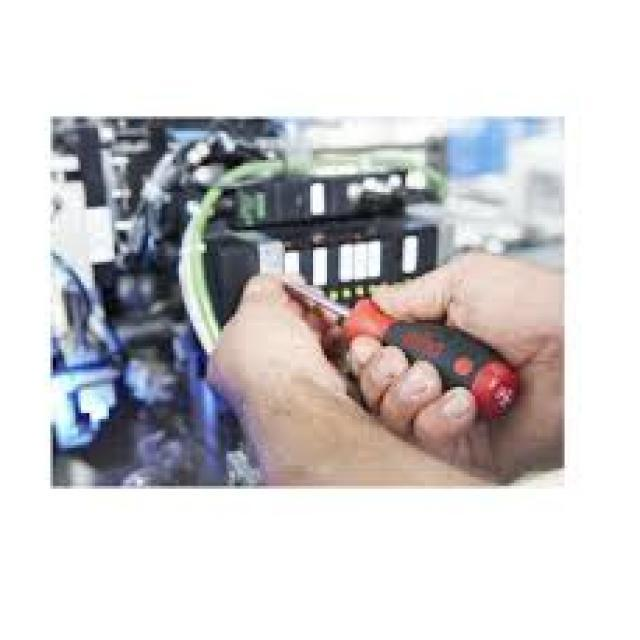screwdriver: (266, 264, 522, 421)
